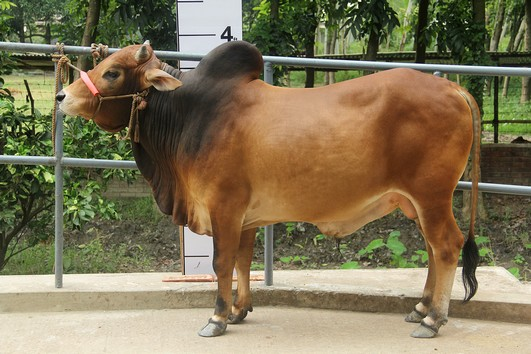cow: (57, 35, 486, 342)
